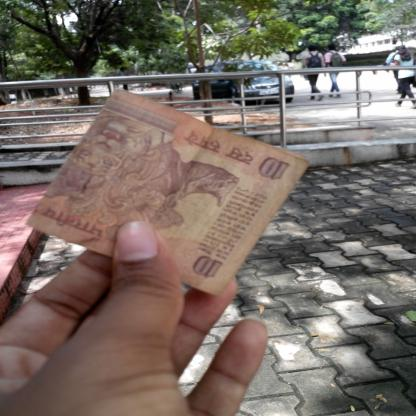Old10Back: (25, 89, 310, 296)
